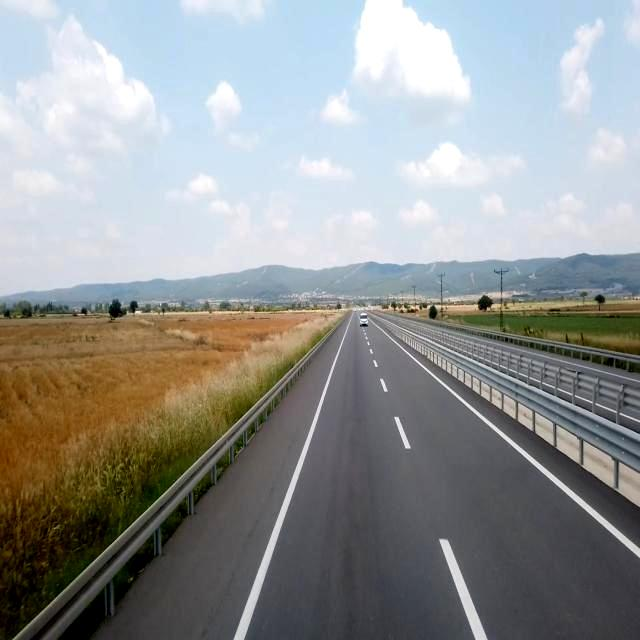road: (90, 313, 639, 639)
